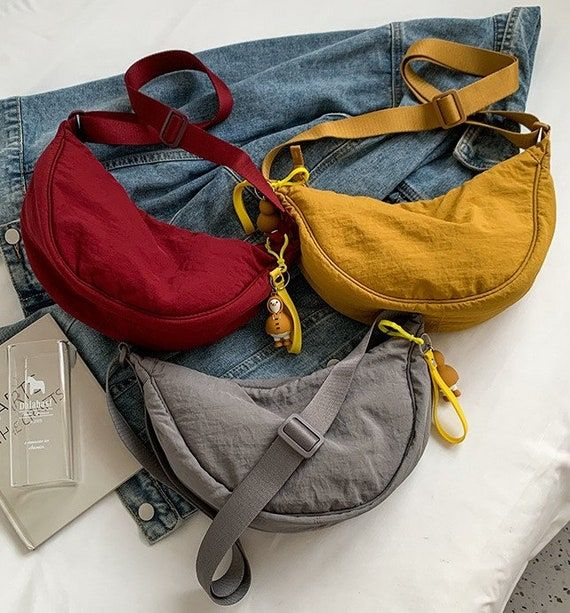nylon: (23, 37, 557, 606)
